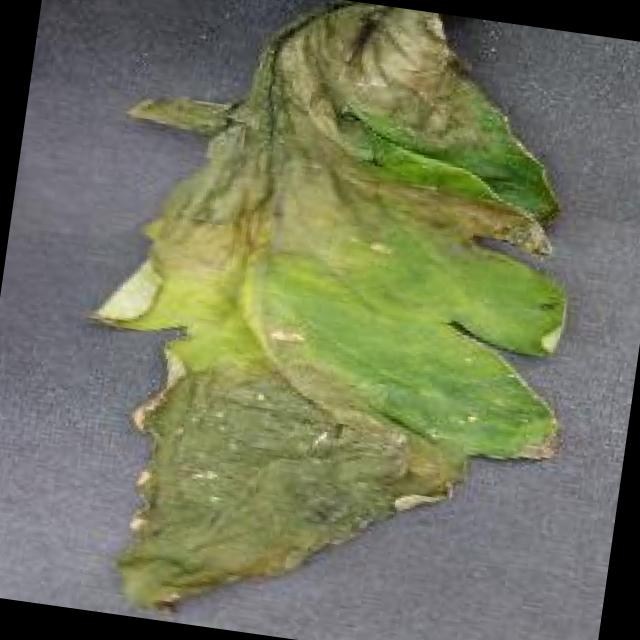Tomato_Late_Blight: (38, 0, 634, 640)
